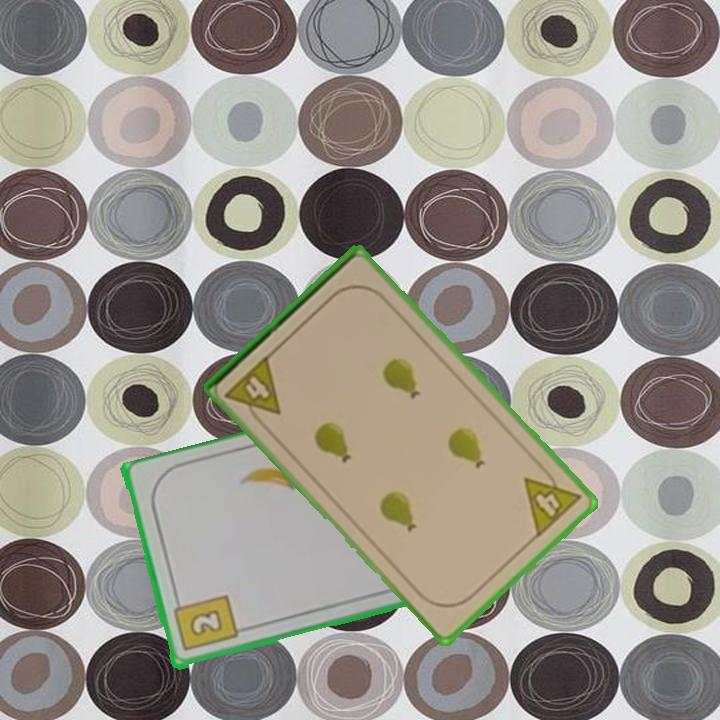2b: (169, 592, 240, 655)
4p: (520, 460, 585, 541), (222, 351, 284, 430)
